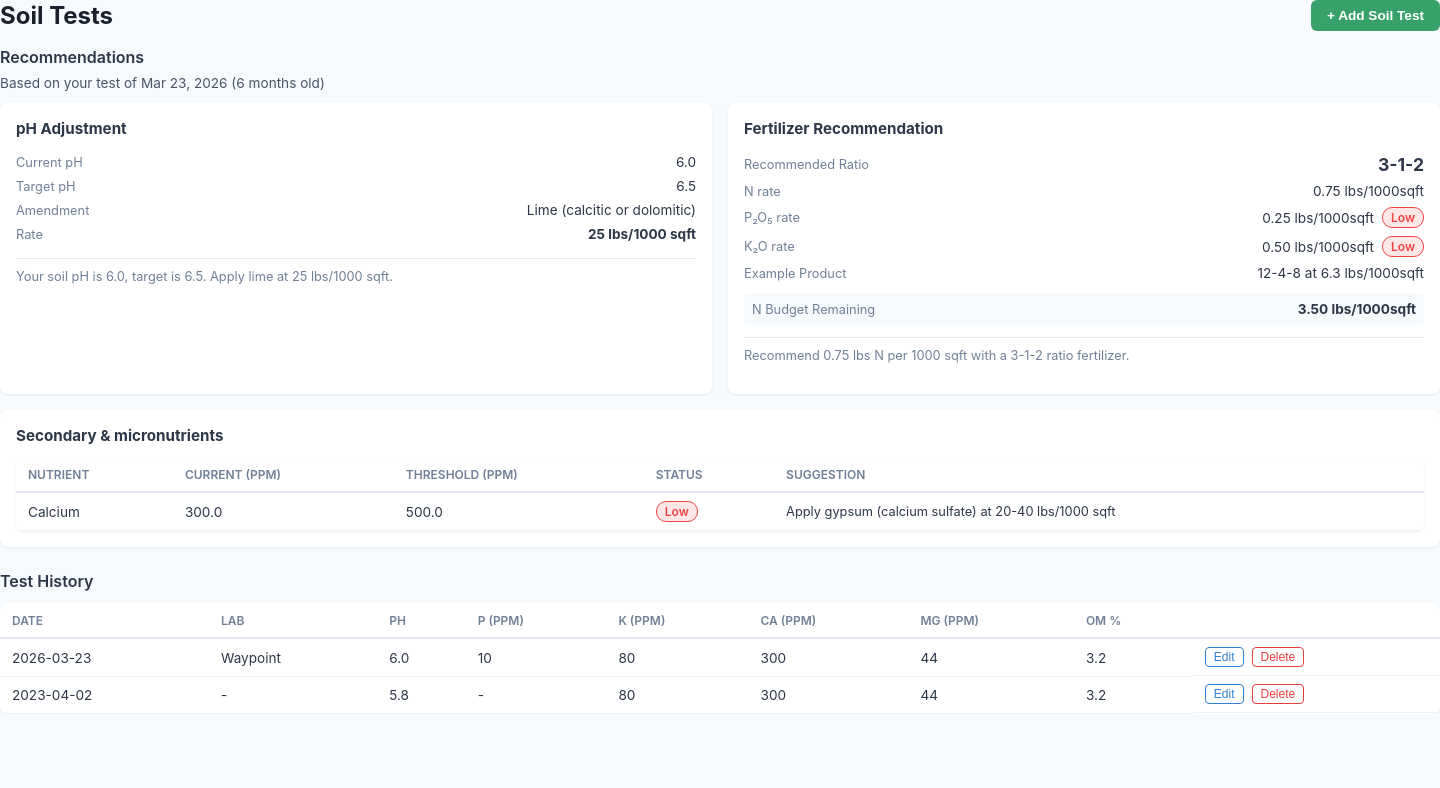
Test: Soil Tests page › refuses to save without a pH
The width and height of the screenshot is (1440, 788).
Expected: the heading "Test History" is shown, [0, 571, 93, 591]
Step 1. Click the button "+ Add Soil Test" → (1375, 16), box [1311, 0, 1439, 31]
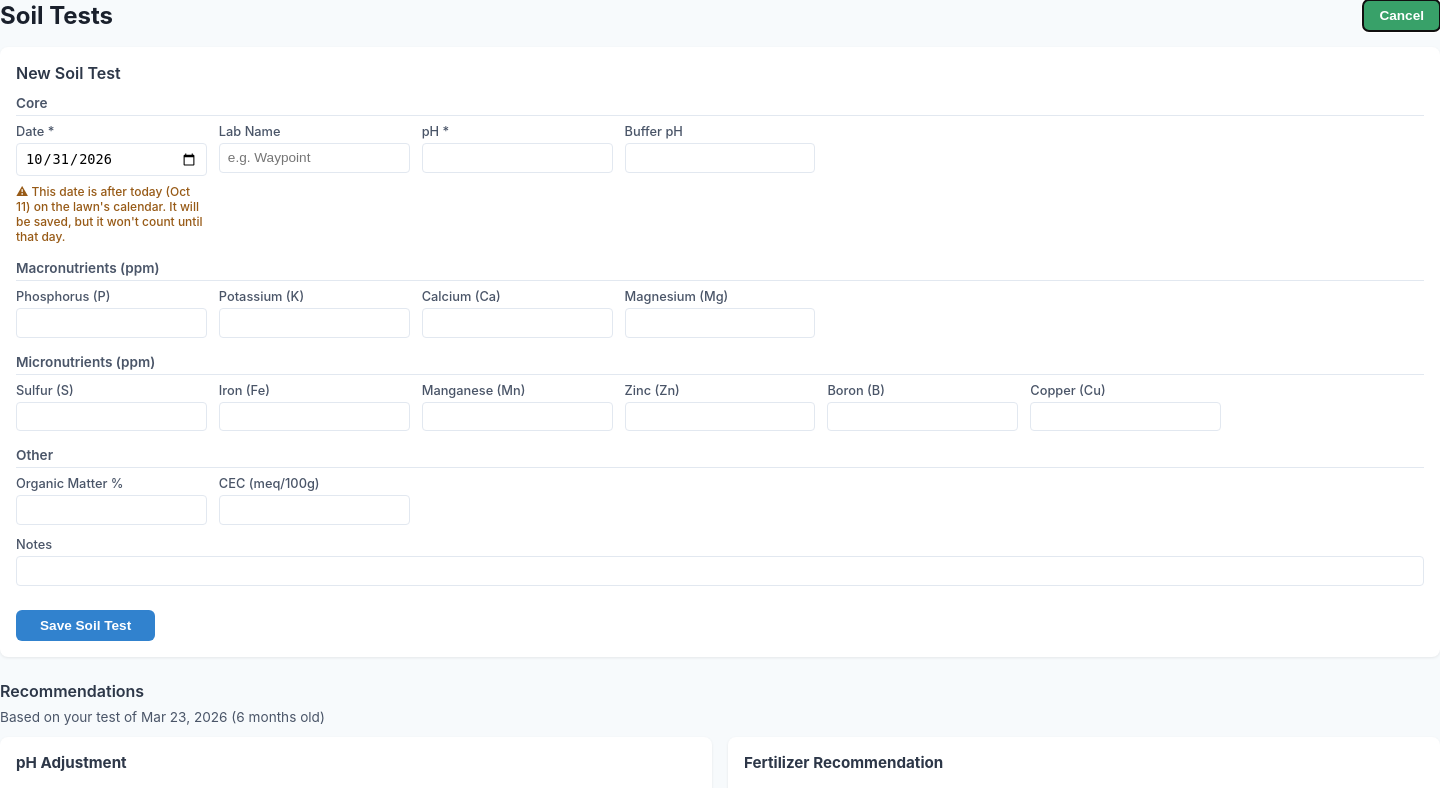
Step 2. Submit the form named "pH"
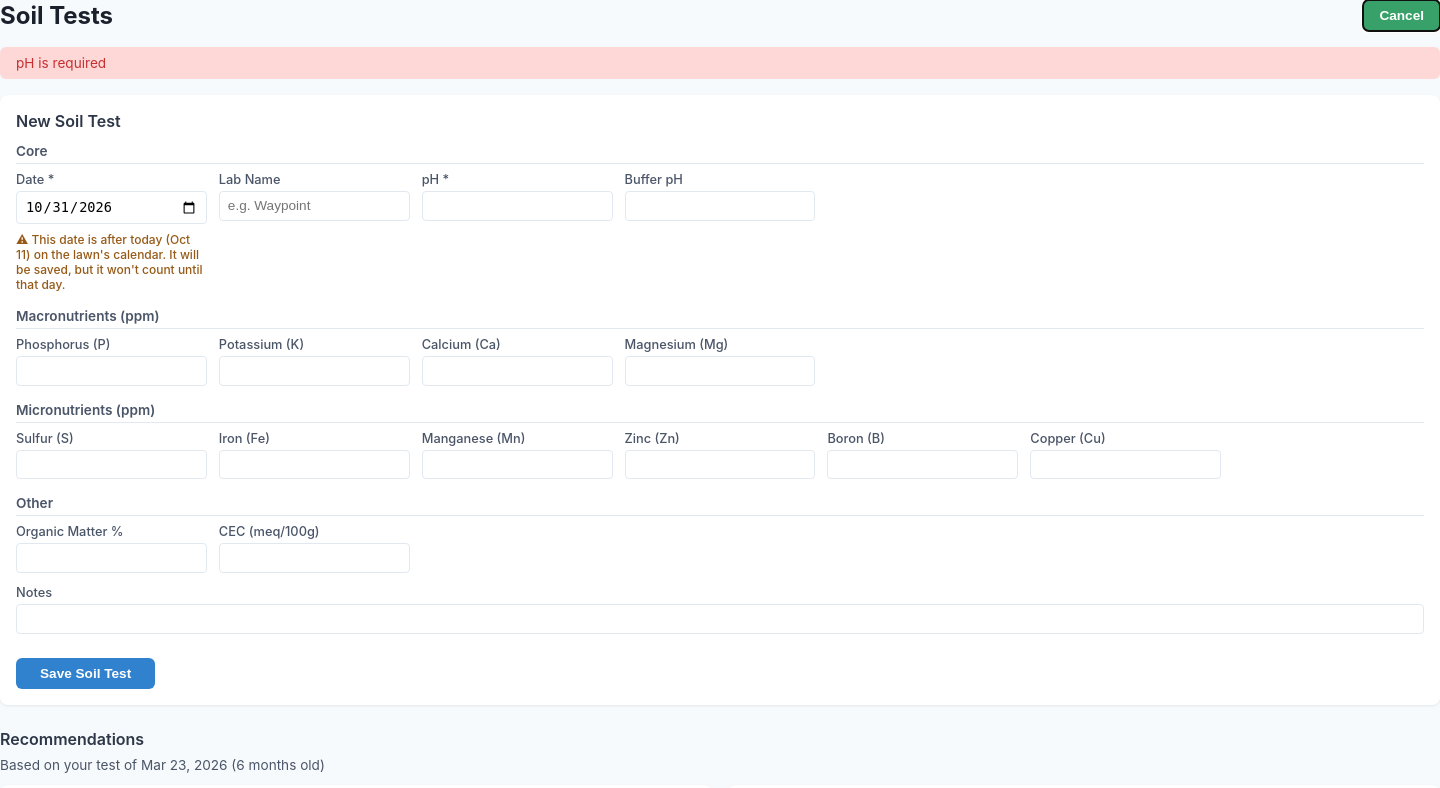
Now the text "pH is required" is shown, box [0, 47, 1439, 79]
